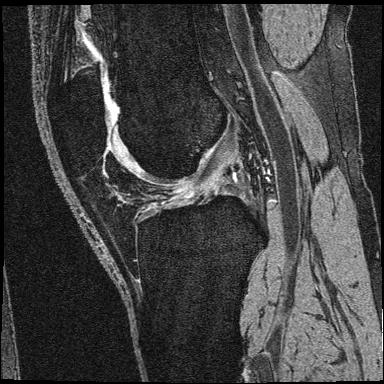SagKneeJointArea: (46, 64, 268, 300)
